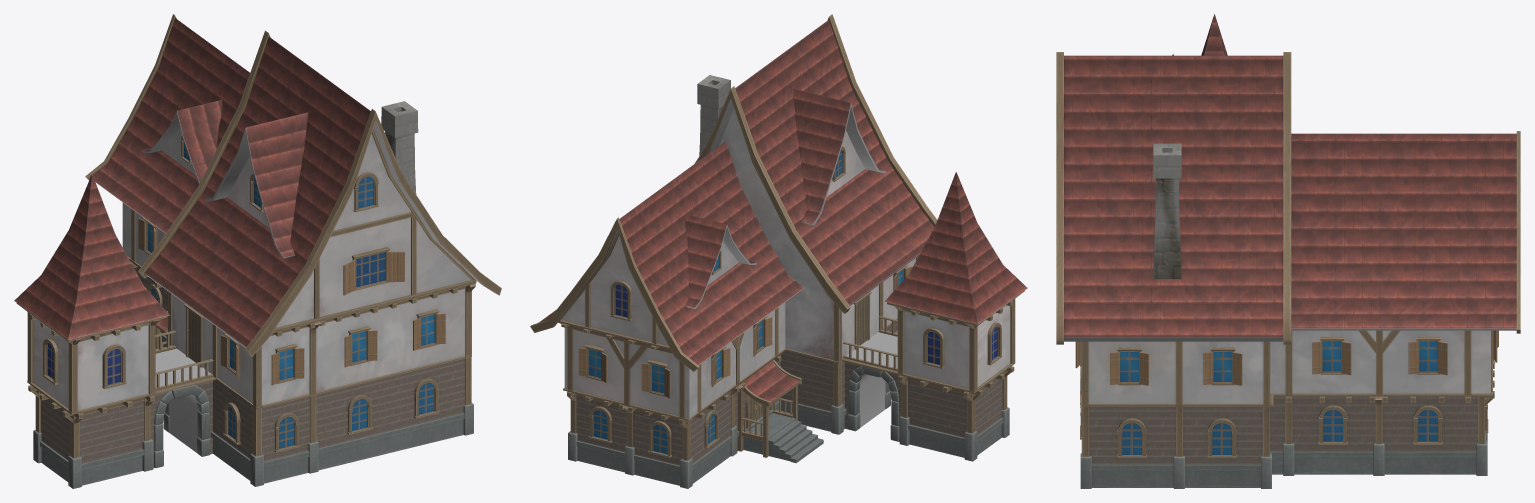
The picture shows the model from 3 angles, left to right: view 1: azimuth 30°, elevation 25°; view 2: azimuth 150°, elevation 25°; view 3: azimuth 270°, elevation 25°; orthographic projection. The views are drawn at different scales.
Visible parts, largest first — view 1: SM_House; view 2: SM_House; view 3: SM_House.
Boxes of the visible parts, x1,y1,x2,y2 form: SM_House: (14,14,501,488); SM_House: (530,14,1027,488); SM_House: (1056,14,1520,488).
Size of the model in its own units: 15.4 by 13.63 by 15.09.
